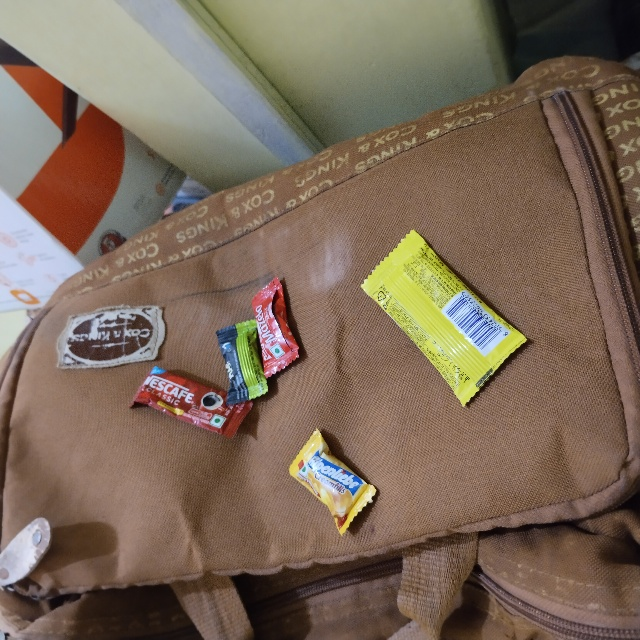Alpenlibe Creamfills: (317, 427, 416, 488)
Mazelo: (247, 291, 287, 379)
Nescafe Coffee: (150, 355, 262, 407)
Orbit: (411, 228, 577, 326)
Pulse: (212, 332, 252, 409)
